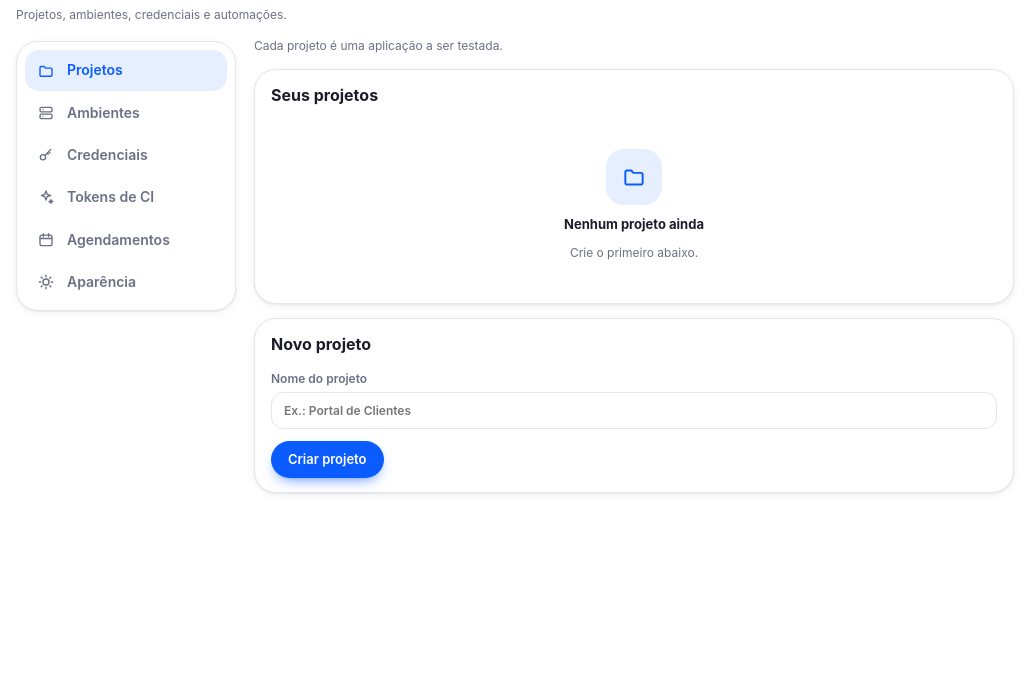
Settings › lista as credenciais e salva uma nova sem exibir a senha de volta
Click the tab "Credenciais".
click(126, 155)  # box x1=25 y1=135 x2=227 y2=175
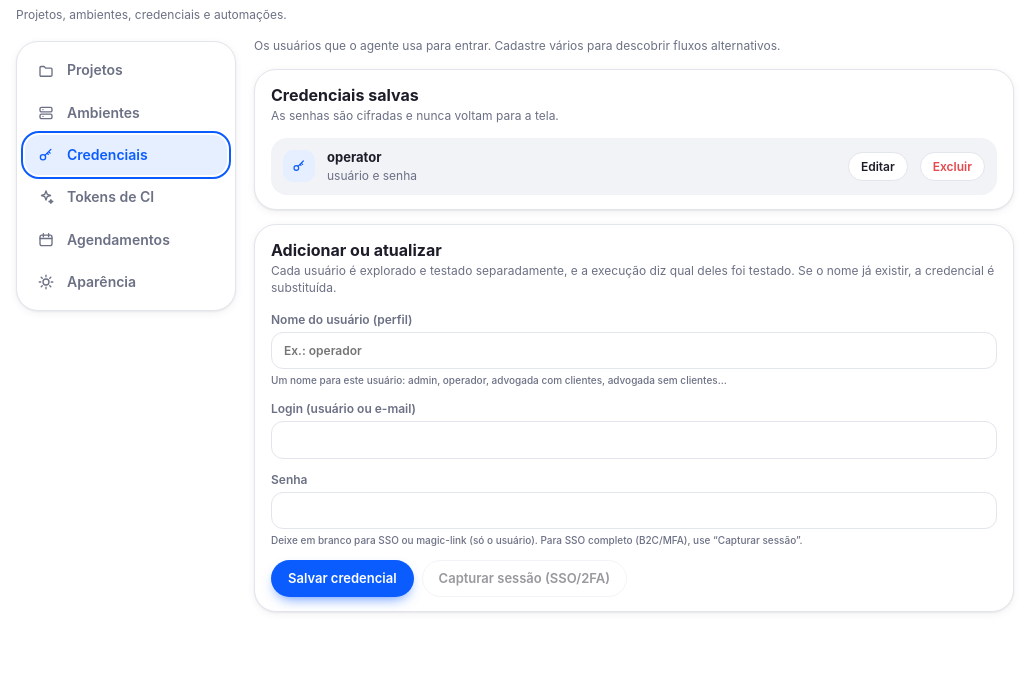
Expected: the text "operator" is shown, x1=327 y1=149 x2=382 y2=165
Type "admin" into the field labelled "Nome do usuário".
click(634, 351); type("admin")  # box x1=271 y1=332 x2=997 y2=369
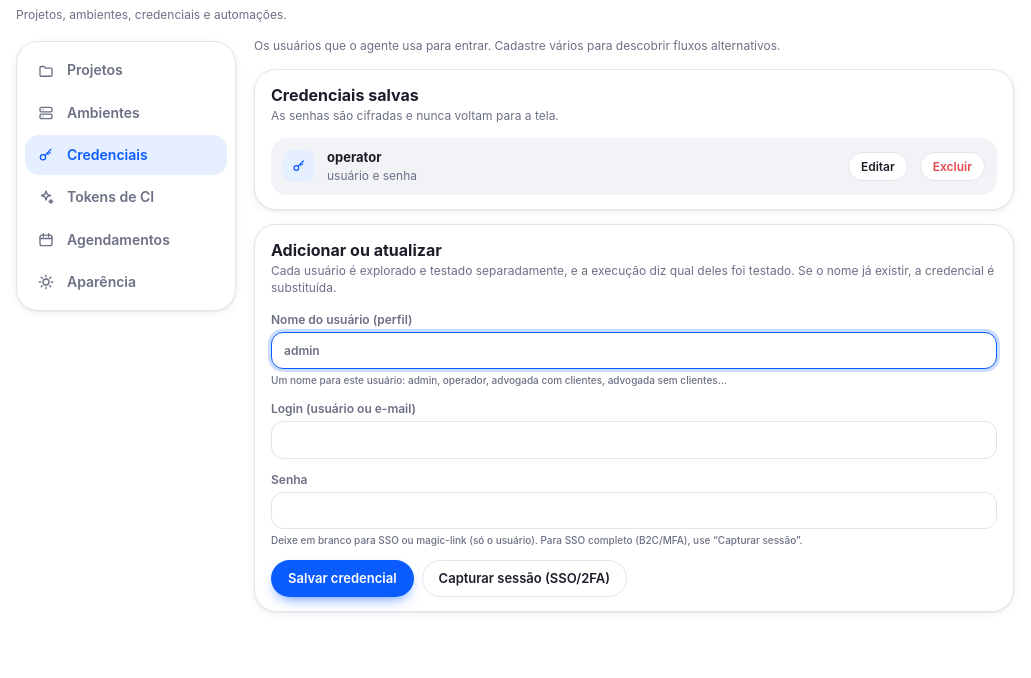
Type "adm" into the field labelled "Login (usuário ou e-mail)".
click(634, 440); type("adm")  # box x1=271 y1=421 x2=997 y2=459
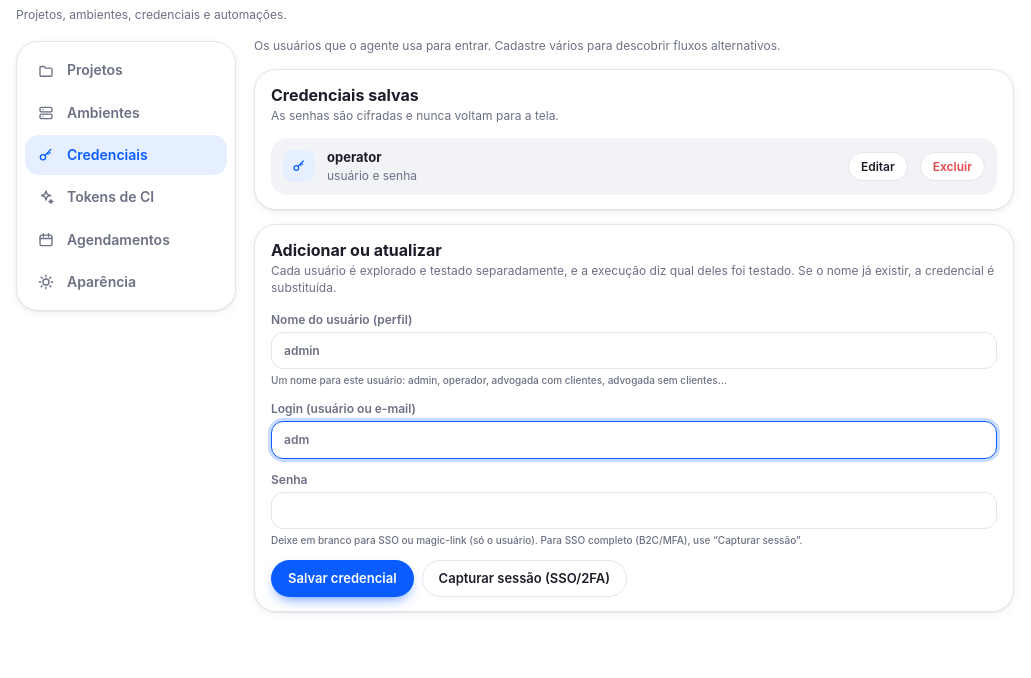
Type "S3cret!" into the password field labelled "Senha".
click(634, 511); type("S3cret!")  # box x1=271 y1=492 x2=997 y2=529
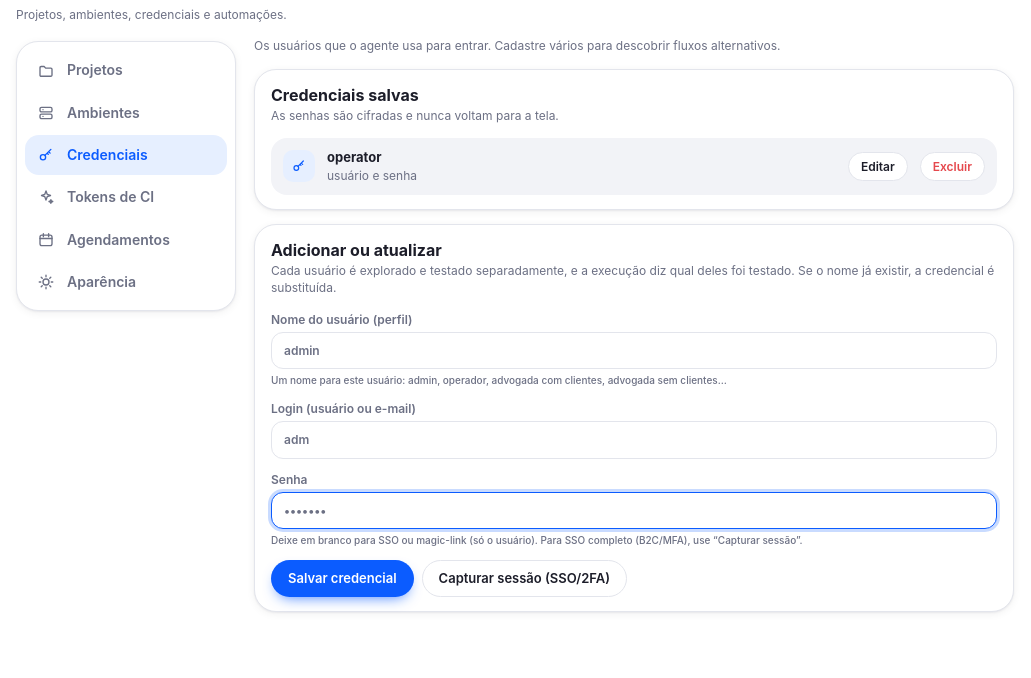
Click the button "Salvar credencial".
click(342, 578)  # box x1=271 y1=560 x2=414 y2=597
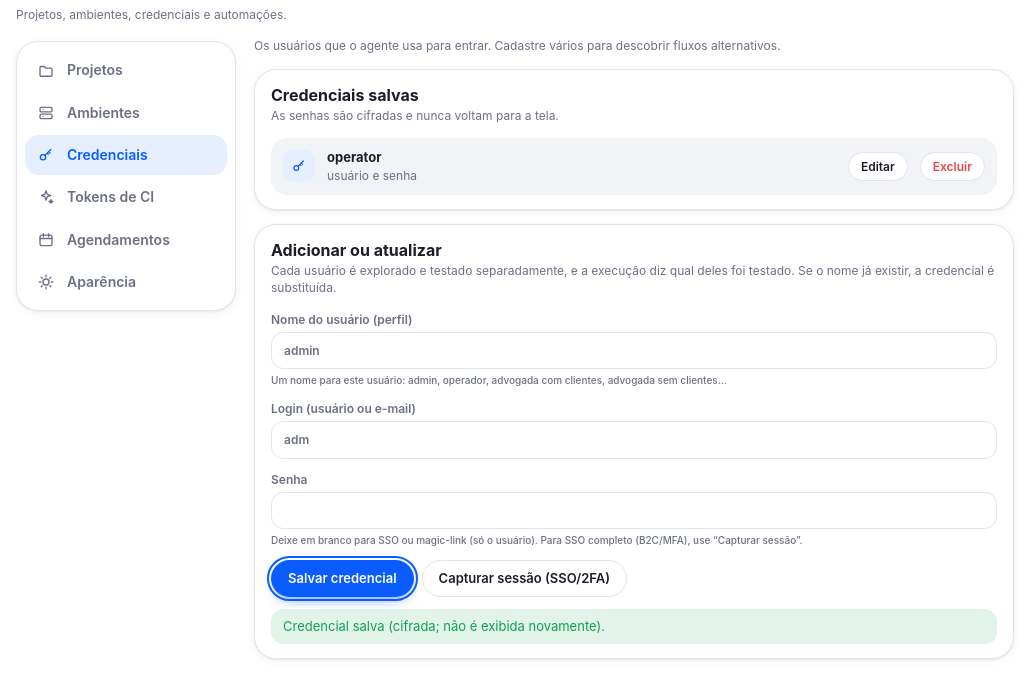
Expected: the text "Credencial salva (cifrada; não é exibida novamente)." is shown, x1=271 y1=609 x2=997 y2=644
